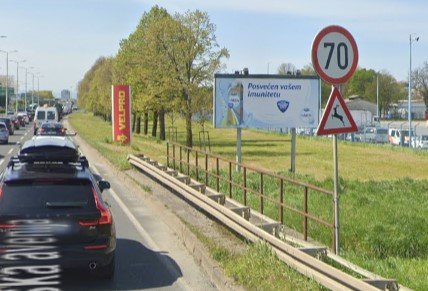Divljač na cesti: (317, 86, 359, 135)
Ograničenje brzine 70: (311, 25, 359, 85)
